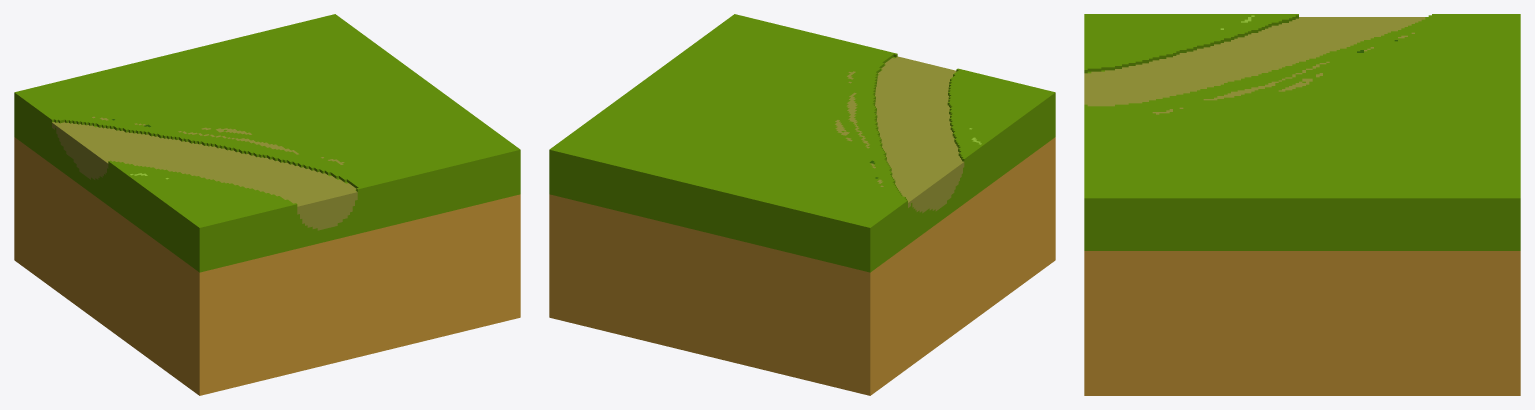
3 views of the same model, side by side, from view 1: azimuth 30°, elevation 25°; view 2: azimuth 150°, elevation 25°; view 3: azimuth 270°, elevation 25° (orthographic). The views are drawn at different scales.
Parts seen in each view (by area): view 1: 10E; view 2: 10E; view 3: 10E.
Boxes of the visible parts, x1,y1,x2,y2 form: 10E: (14, 14, 520, 395); 10E: (549, 14, 1055, 395); 10E: (1084, 14, 1520, 395).
Bounding box in the file's own units: 12.8 × 6.4 × 12.8.
Materials: 1 (1 with a texture image).
